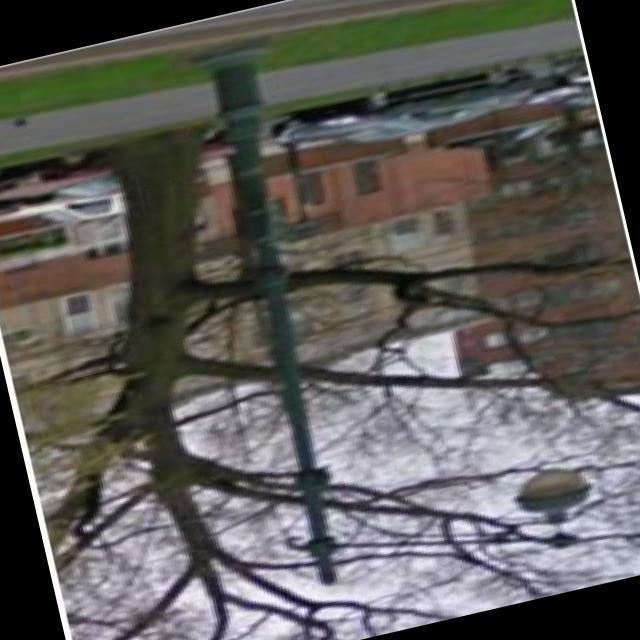off: (470, 450, 632, 584)
